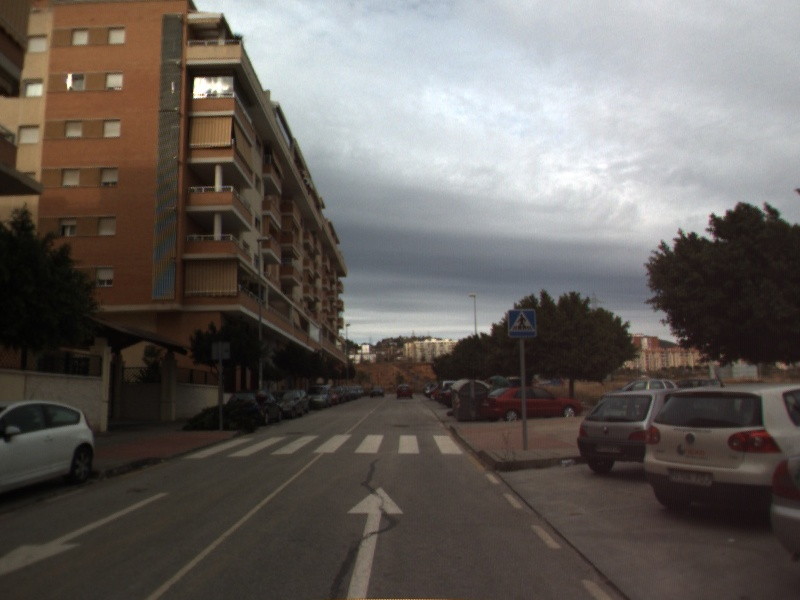STRAIGHT: (343, 484, 406, 600)
